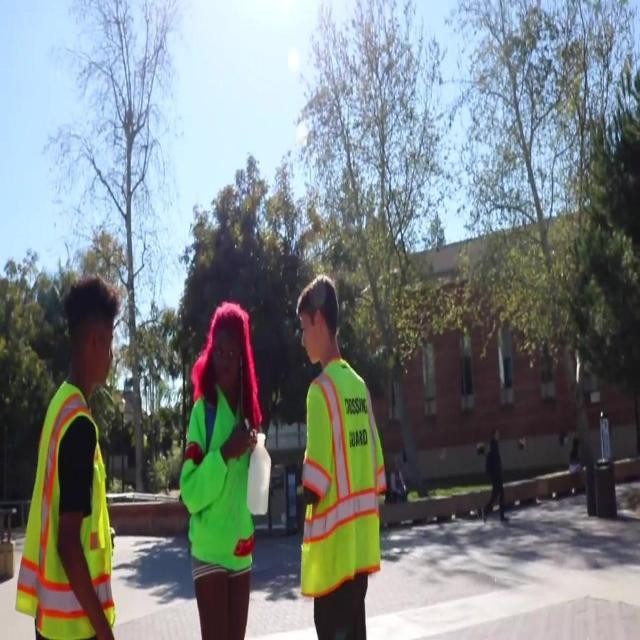Vest: (13, 379, 117, 636), (298, 358, 386, 596)
